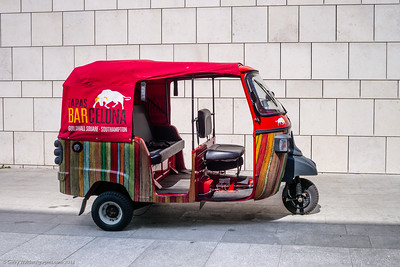threewheel: (54, 60, 319, 232)
